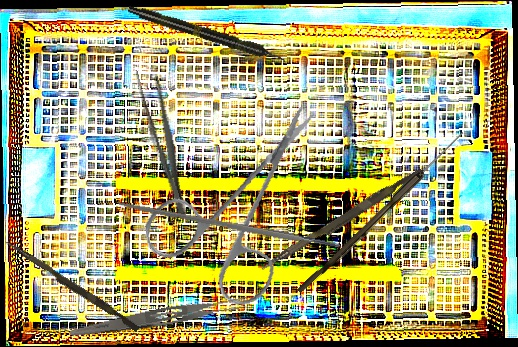Dressing Forceps: (131, 64, 197, 222), (68, 292, 250, 345)
Handpiece: (126, 2, 288, 67)
Iris Scissors: (128, 104, 345, 320)
Pusher: (259, 163, 425, 278), (2, 239, 142, 333)
Scalpel Handle: (117, 199, 342, 252)
Surgical Spoon: (296, 127, 467, 298)
